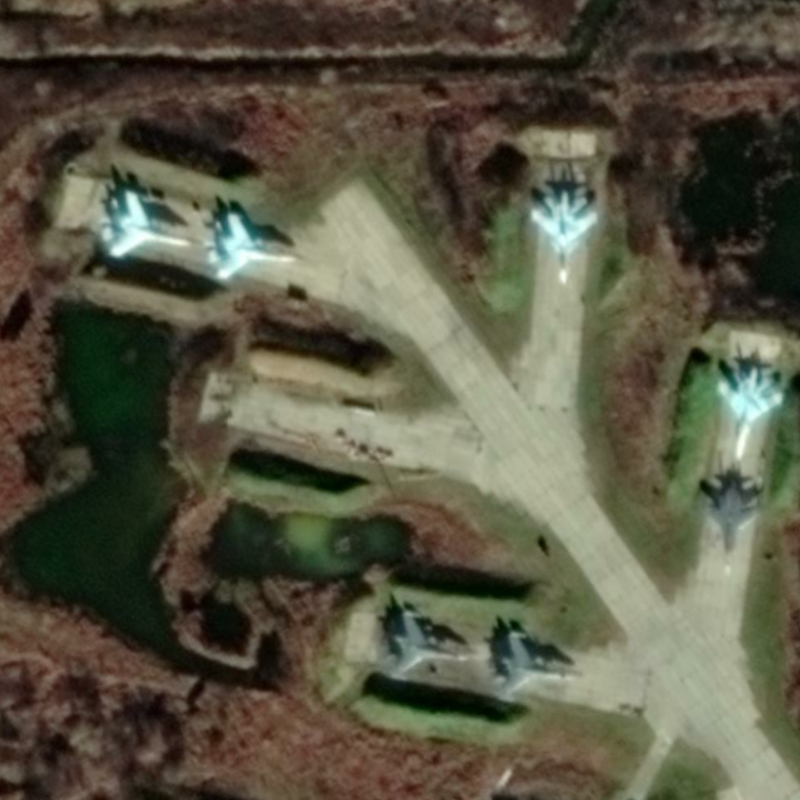A1: (494, 629, 585, 706), (98, 187, 195, 259), (203, 210, 302, 280), (700, 469, 764, 575), (716, 365, 785, 462), (388, 608, 474, 682)
A19: (529, 188, 599, 287)
